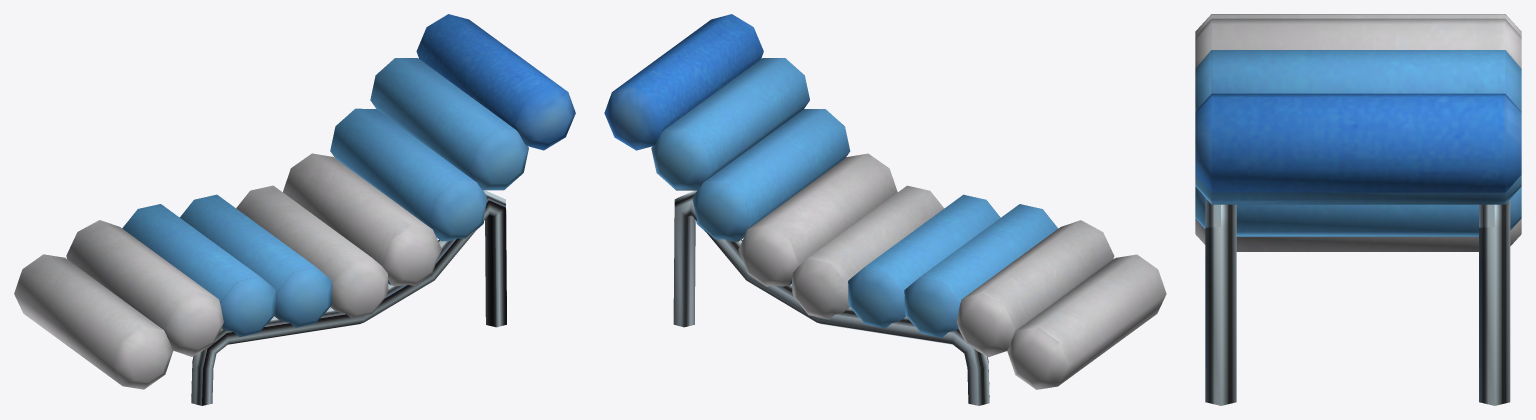
Rendered from furni_0200509.FBX.
The picture shows the model from 3 angles, left to right: view 1: azimuth 30°, elevation 25°; view 2: azimuth 150°, elevation 25°; view 3: azimuth 270°, elevation 25°; orthographic projection. The views are drawn at different scales.
Parts seen in each view (by area): view 1: furni_0200509; view 2: furni_0200509; view 3: furni_0200509.
Boxes of the visible parts, bbox=[...] form: furni_0200509: bbox=[14, 14, 575, 405]; furni_0200509: bbox=[604, 14, 1166, 405]; furni_0200509: bbox=[1195, 14, 1521, 405].
Bounding box in the file's own units: 183 × 88.16 × 75.41.
Materials: 1 (1 with a texture image).
